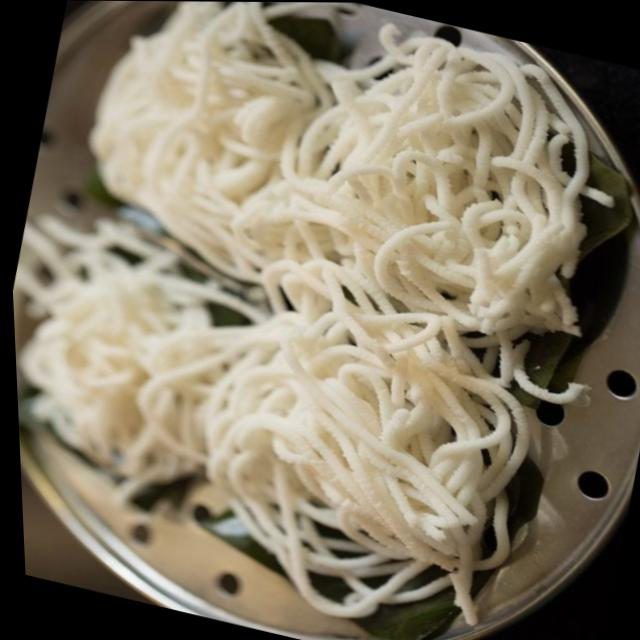IDIYAPPAM: (14, 1, 631, 614)
